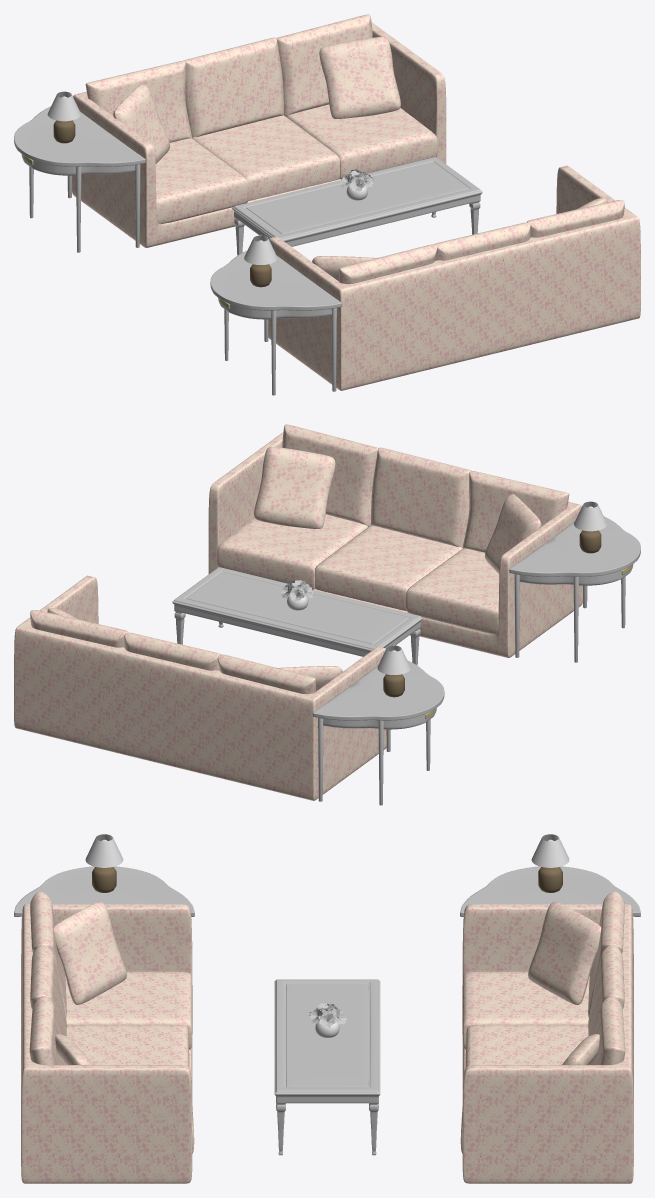
Rendered from tablebetweencouches.fbx.
3 renders of one model, top to bottom at view 1: azimuth 30°, elevation 25°; view 2: azimuth 150°, elevation 25°; view 3: azimuth 270°, elevation 25°, orthographic. The views are drawn at different scales.
Visible parts, largest first — view 1: Couch, Couch.001, Table, DeskTop, DeskTop.001, DeskLegsBack.001, DeskLegsBack, Lamp.002, Lamp.003; view 2: Couch.001, Couch, Table, DeskTop.001, DeskTop, DeskLegsBack, DeskLegsBack.001, Lamp.003, Lamp.002; view 3: Couch, Couch.001, Table, DeskTop, DeskTop.001, Lamp.002, Lamp.003, flowers_magnolia_003, Lamp, Lamp.001.
Part boxes in pixels (x1,y1,x2,y2): Couch: [72, 14, 446, 247]; Couch.001: [268, 165, 640, 390]; Table: [232, 157, 482, 255]; DeskTop: [210, 250, 342, 319]; DeskTop.001: [14, 106, 145, 175]; DeskLegsBack.001: [29, 164, 140, 252]; DeskLegsBack: [224, 308, 336, 395]; Lamp.002: [47, 91, 80, 121]; Lamp.003: [244, 235, 277, 264]; Couch.001: [208, 424, 582, 657]; Couch: [14, 575, 386, 800]; Table: [172, 567, 422, 665]; DeskTop.001: [312, 660, 444, 729]; DeskTop: [509, 516, 640, 585]; DeskLegsBack: [514, 574, 625, 662]; DeskLegsBack.001: [318, 718, 430, 805]; Lamp.003: [574, 501, 607, 531]; Lamp.002: [377, 645, 410, 674]; Couch: [460, 891, 633, 1183]; Couch.001: [21, 891, 194, 1183]; Table: [274, 979, 380, 1155]; DeskTop: [14, 866, 194, 916]; DeskTop.001: [460, 866, 640, 916]; Lamp.002: [531, 834, 569, 867]; Lamp.003: [85, 834, 123, 867]; flowers_magnolia_003: [309, 1003, 347, 1028]; Lamp: [92, 867, 116, 892]; Lamp.001: [538, 867, 562, 892].
Size of the model in its own units: 2327 by 793 by 2882.
